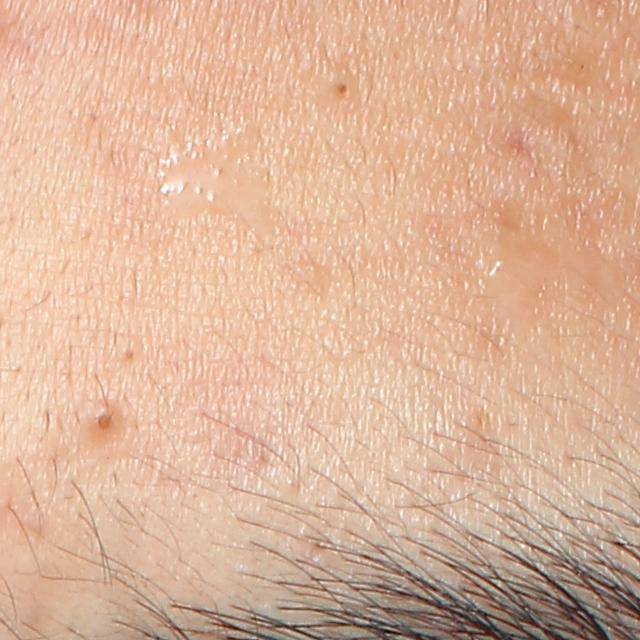comedo: (86, 405, 122, 443), (326, 70, 358, 104), (115, 336, 143, 364)
